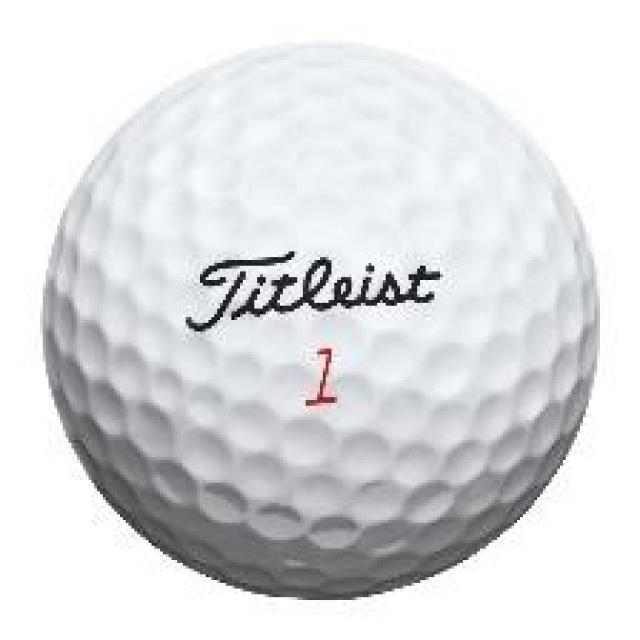golfball: (34, 24, 603, 604)
